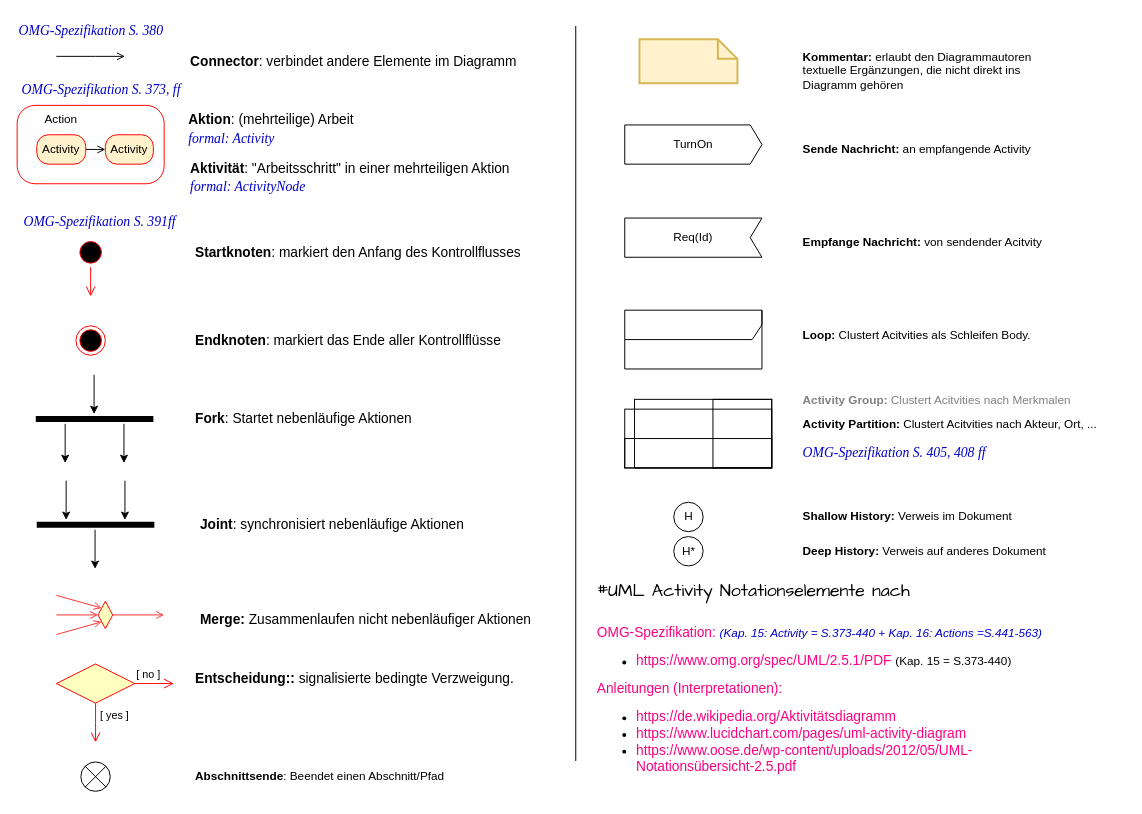
Image size: 1142x814. Some labels were removed from this diagram. The box of each missing label's shape, as (x1, y1, x2, y2) in pixels:
Decision: (55, 663, 135, 703)
Diagram Heading: (624, 309, 762, 369)
Note: (638, 38, 738, 84)
